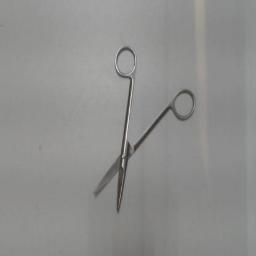Curved Mayo Scissors: (87, 42, 199, 218)
